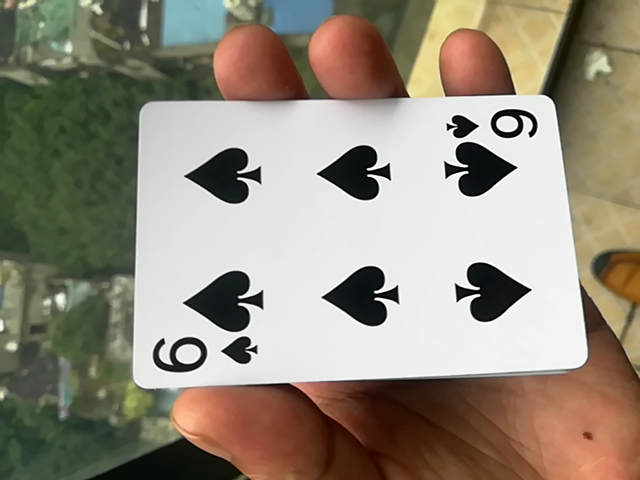ht 6: (118, 99, 580, 397)
